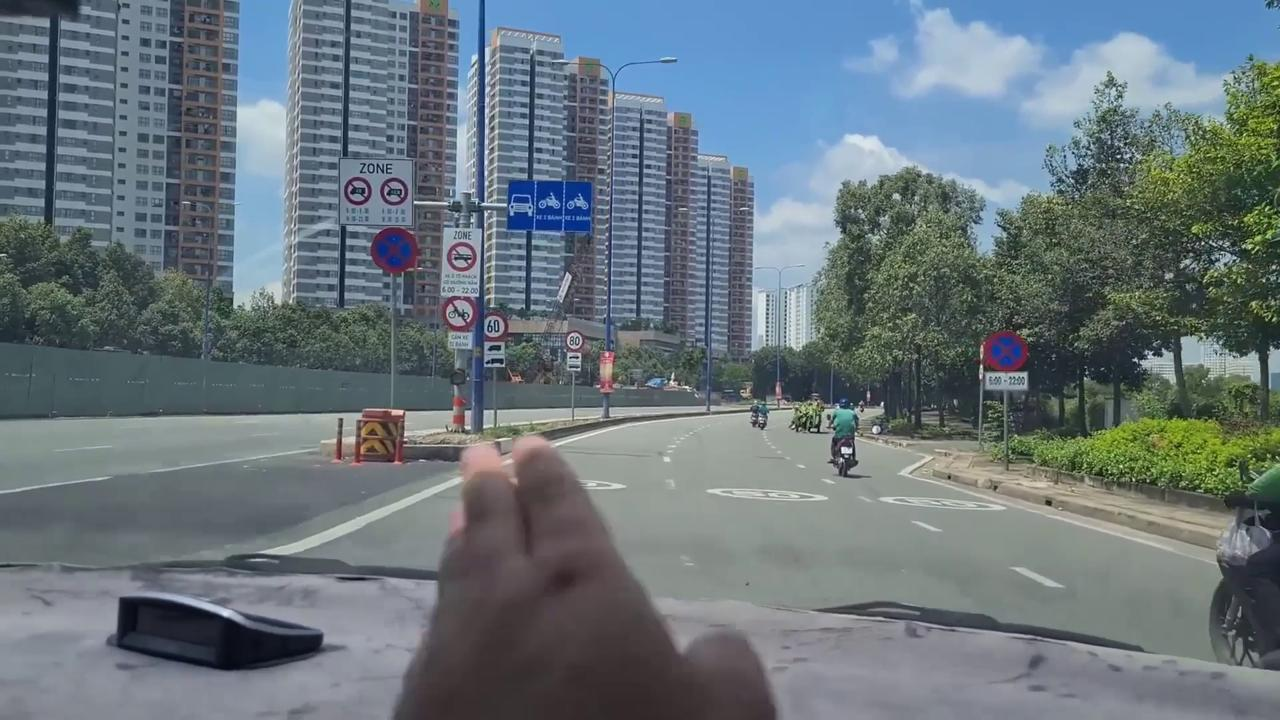Biển phụ: (981, 370, 1030, 393), (482, 341, 506, 368), (566, 350, 582, 372)
Cấm cac phương tiện hoạt động trong khung giờ cố định: (336, 155, 415, 229), (440, 228, 480, 298)
Cấm dừng - Cấm đỗ: (370, 225, 419, 274), (981, 330, 1029, 373)
Cấm xe máy: (439, 295, 480, 333)
GIơi hạn tốc độ 60Km/h: (480, 311, 510, 342)
Giới hạn tốc độ 80Km/h: (564, 329, 584, 352)
Làn đường cho từng xe: (505, 178, 593, 232)
